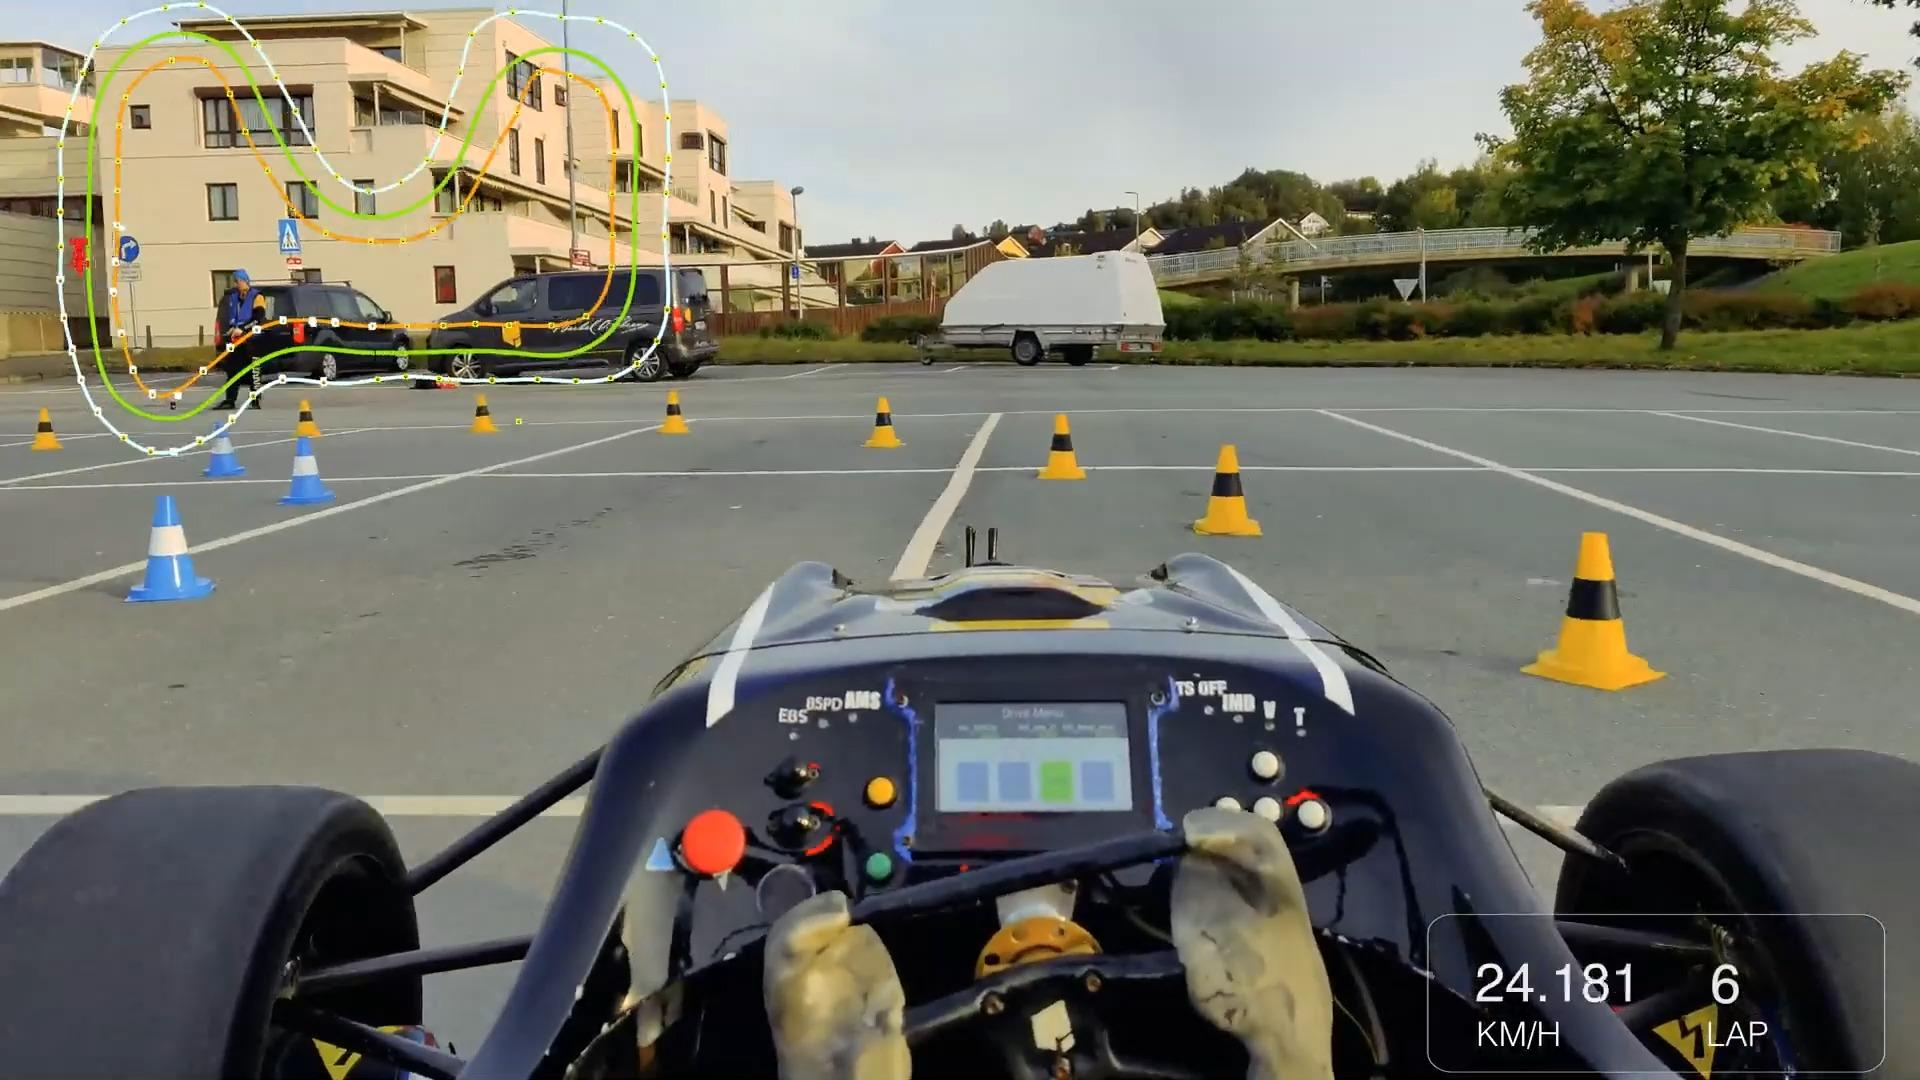blue_cone: (128, 492, 214, 604), (282, 438, 334, 505), (202, 421, 245, 481)
yellow_cone: (1520, 524, 1664, 684), (1191, 443, 1267, 542), (1040, 411, 1091, 480), (865, 396, 909, 446), (32, 405, 70, 450), (657, 389, 691, 435), (467, 390, 501, 434), (294, 401, 320, 439)
